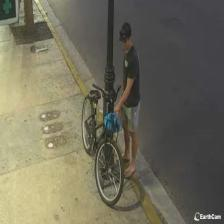person: (116, 23, 140, 177)
